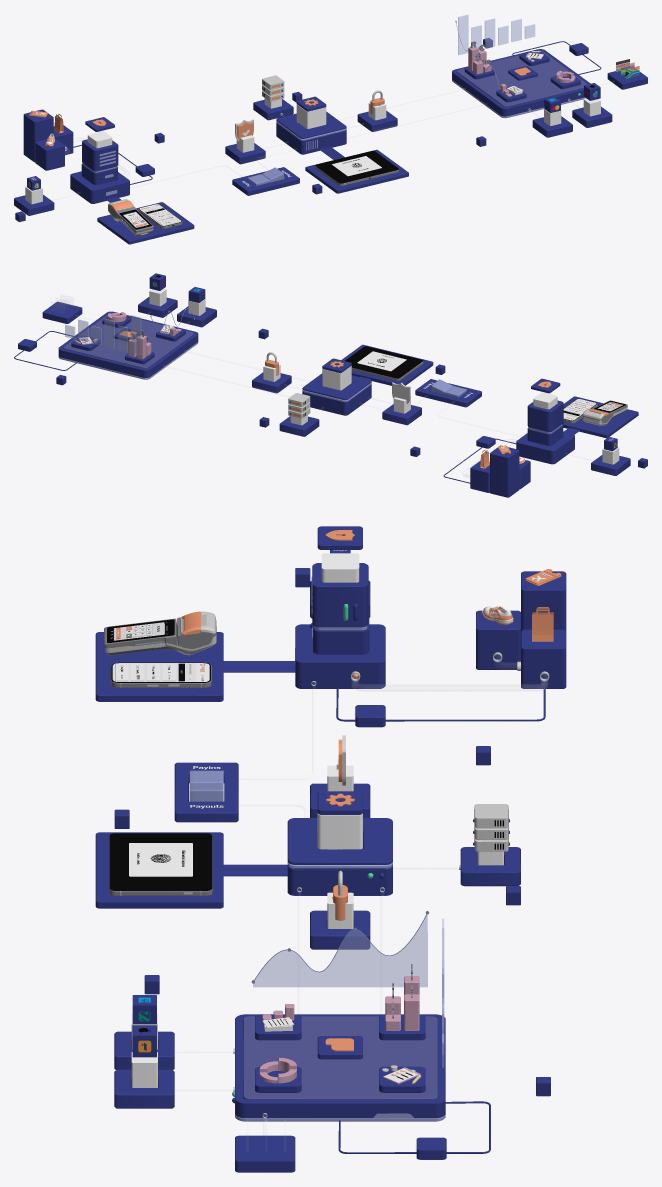
3 views of the same model, one above another, from view 1: azimuth 30°, elevation 25°; view 2: azimuth 150°, elevation 25°; view 3: azimuth 270°, elevation 25° (orthographic). The views are drawn at different scales.
Parts seen in each view (by area): view 1: base (×11), platform (×3), floor, graph, platfrom, Screen Border, platform_03, light (×2), screen, platform_top, platform_01, Rectangle (+2 smaller); view 2: base (×11), platform (×3), floor, graph, platform_03, platfrom, Screen Border, light (×2), screen, platform_top, platform_02, Rectangle (+1 smaller); view 3: base (×10), platform (×3), floor, background, platfrom, Screen Border, platform_top, screen, light (×2), platform_02, platform_01, platform_03 (+5 smaller).
Part boxes in pixels (x1,y1,x2,y2): base (×11): [14, 67, 647, 215]; platform (×3): [97, 49, 590, 244]; floor: [456, 50, 587, 106]; graph: [458, 14, 535, 54]; platfrom: [70, 171, 129, 203]; Screen Border: [315, 151, 398, 183]; platform_03: [23, 109, 53, 162]; light (×2): [87, 104, 326, 148]; screen: [316, 151, 397, 182]; platform_top: [276, 111, 346, 138]; platform_01: [35, 138, 64, 170]; Rectangle: [81, 163, 117, 184]; base (×11): [42, 297, 630, 475]; platform (×3): [58, 311, 638, 438]; floor: [63, 312, 193, 368]; graph: [65, 315, 141, 355]; platform_03: [490, 445, 519, 497]; platfrom: [516, 432, 574, 464]; Screen Border: [345, 346, 423, 378]; light (×2): [322, 366, 557, 409]; screen: [346, 346, 422, 377]; platform_top: [302, 373, 371, 400]; platform_02: [470, 461, 489, 492]; Rectangle: [527, 424, 563, 445]; base (×10): [114, 563, 520, 1172]; platform (×3): [95, 632, 445, 1118]; floor: [243, 1016, 437, 1099]; background: [253, 914, 427, 987]; platfrom: [295, 624, 385, 688]; Screen Border: [109, 833, 212, 890]; platform_top: [287, 818, 392, 864]; screen: [111, 834, 210, 889]; light (×2): [317, 553, 362, 849]; platform_02: [521, 629, 566, 688]; platform_01: [476, 610, 520, 669]; platform_03: [521, 571, 566, 631].
Size of what is drawn, in the model's own units: 37.2 by 4 by 12.5.
201 materials, 3 textured.
